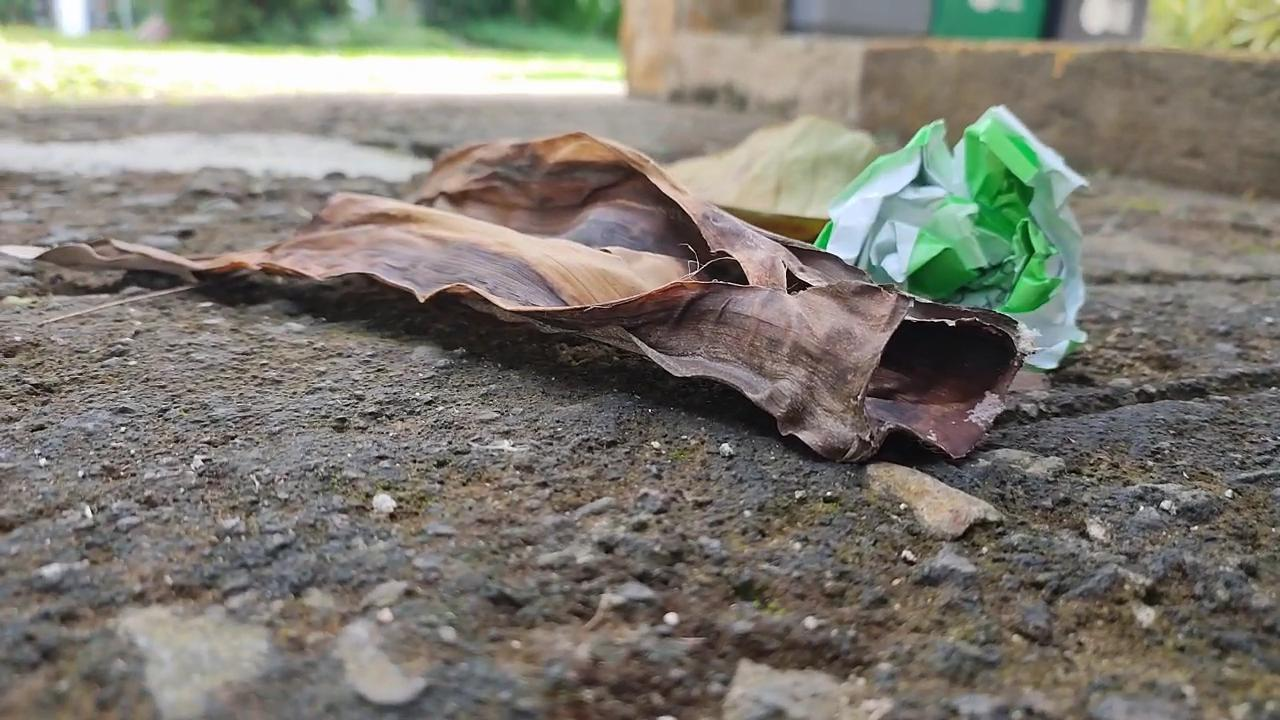Paper: (813, 94, 1091, 391)
